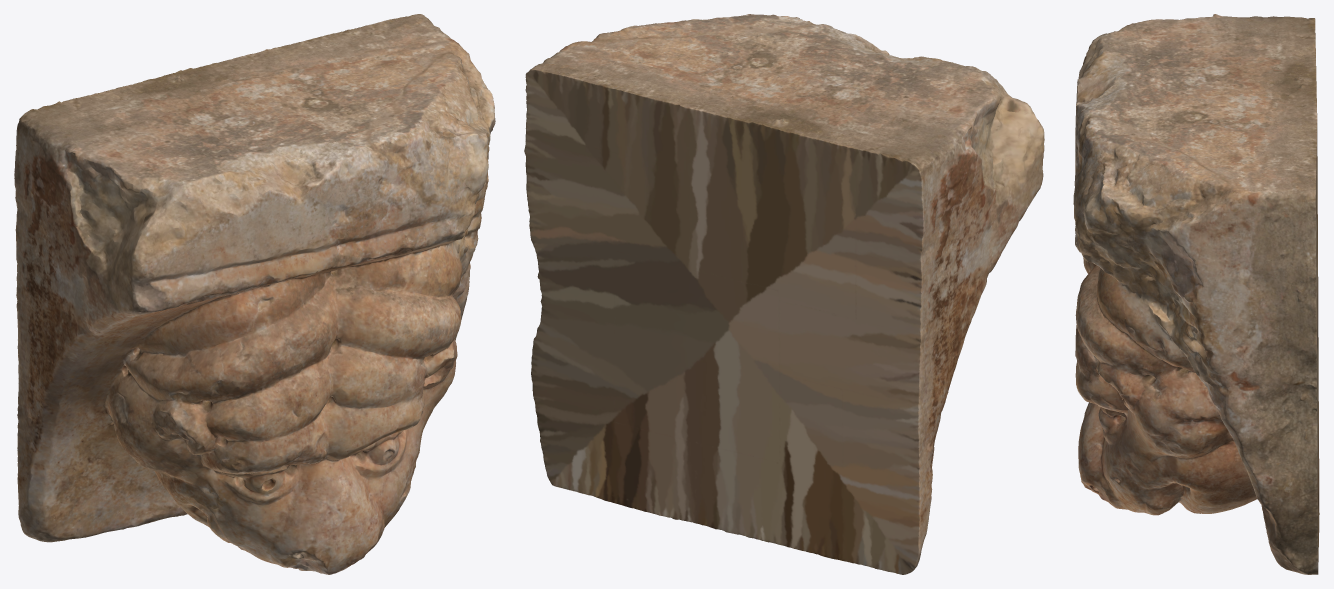
Rendered from corbel_25_120_599.glb.
3 renders of one model, left to right at view 1: azimuth 30°, elevation 25°; view 2: azimuth 150°, elevation 25°; view 3: azimuth 270°, elevation 25°, orthographic. The views are drawn at different scales.
Parts seen in each view (by area): view 1: ADVIMG_25_120_599_Corble_n3d; view 2: ADVIMG_25_120_599_Corble_n3d; view 3: ADVIMG_25_120_599_Corble_n3d.
Boxes of the visible parts, left/top/right/bottom form: ADVIMG_25_120_599_Corble_n3d: left=14, top=14, right=495, bottom=574; ADVIMG_25_120_599_Corble_n3d: left=524, top=14, right=1044, bottom=574; ADVIMG_25_120_599_Corble_n3d: left=1073, top=14, right=1319, bottom=574.
Bounding box in the file's own units: 0.1663 × 0.1648 × 0.0918.
Materials: 1 (1 with a texture image).
